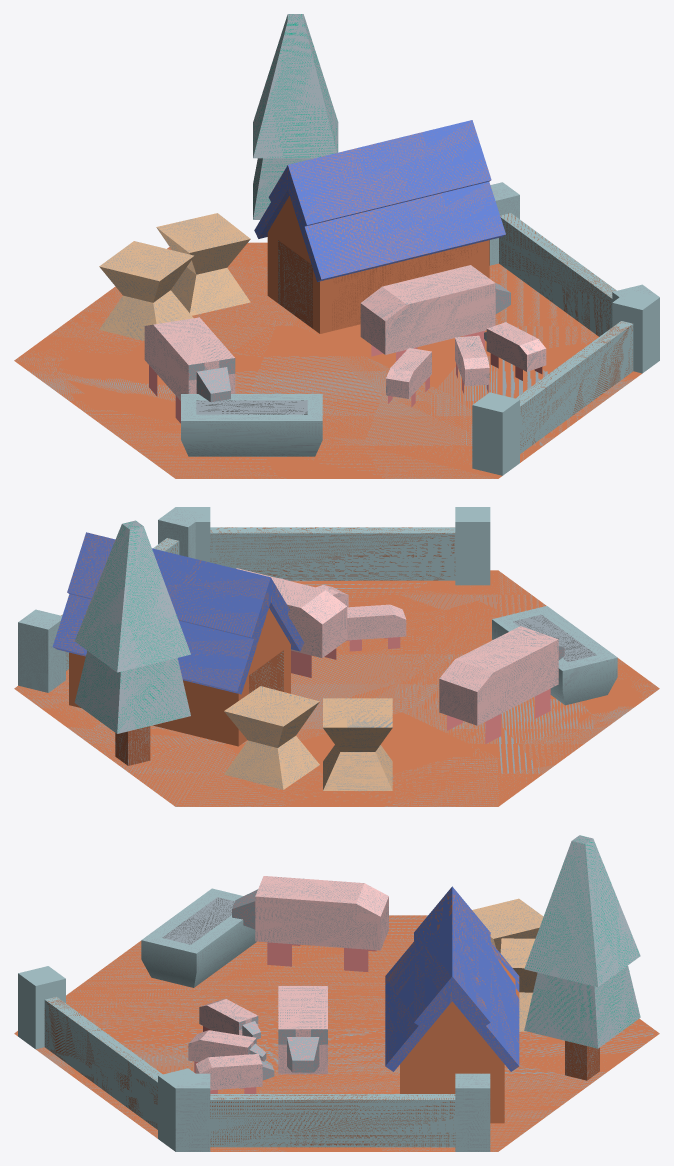
The model's file is Pigs.fbx.
3 renders of one model, top to bottom at view 1: azimuth 30°, elevation 25°; view 2: azimuth 150°, elevation 25°; view 3: azimuth 270°, elevation 25°, orthographic.
Visible parts, largest first — view 1: Model, Group8, Group5, Group7, Group2, Group3, Group4, Group12, Group6, Group10, Group9, Group1 (+1 smaller); view 2: Model, Group8, Group7, Group5, Group12, Group10, Group6, Group3, Group4, Group2, Group1; view 3: Model, Group8, Group4, Group7, Group5, Group12, Group3, Group2, Group9, Group6, Group11, Group1 (+1 smaller).
Boxes of the visible parts, x1,y1,x2,y2 form: Model: (14,242,641,478); Group8: (254,120,505,333); Group5: (472,290,659,475); Group7: (253,14,338,219); Group2: (360,265,510,361); Group3: (181,394,322,456); Group4: (489,182,659,336); Group12: (144,317,235,423); Group6: (99,241,194,340); Group10: (156,213,250,315); Group9: (484,322,546,380); Group1: (386,347,431,407); Model: (14,570,659,806); Group8: (52,532,304,746); Group7: (74,520,190,765); Group5: (176,507,490,585); Group12: (439,626,564,743); Group10: (224,686,319,789); Group6: (323,698,392,790); Group3: (492,606,617,705); Group4: (18,507,204,692); Group2: (236,568,347,677); Group1: (346,604,406,651); Model: (14,915,659,1151); Group8: (385,886,519,1123); Group4: (175,1073,490,1151); Group7: (524,835,640,1080); Group5: (18,966,204,1151); Group12: (232,876,388,971); Group3: (141,888,256,987); Group2: (278,986,327,1074); Group9: (195,1054,274,1093); Group6: (472,898,543,952); Group11: (188,1030,266,1072); Group1: (199,999,260,1039).
Bounding box in the file's own units: 0.8 × 0.3686 × 0.9238.
